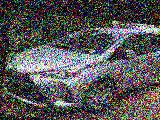car: (2, 15, 160, 120)
